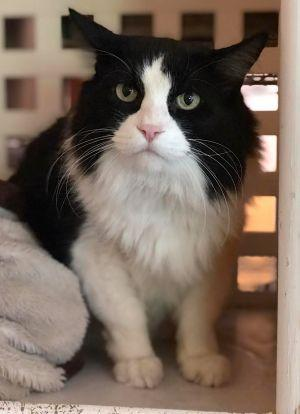ragdoll: (45, 1, 282, 213)
